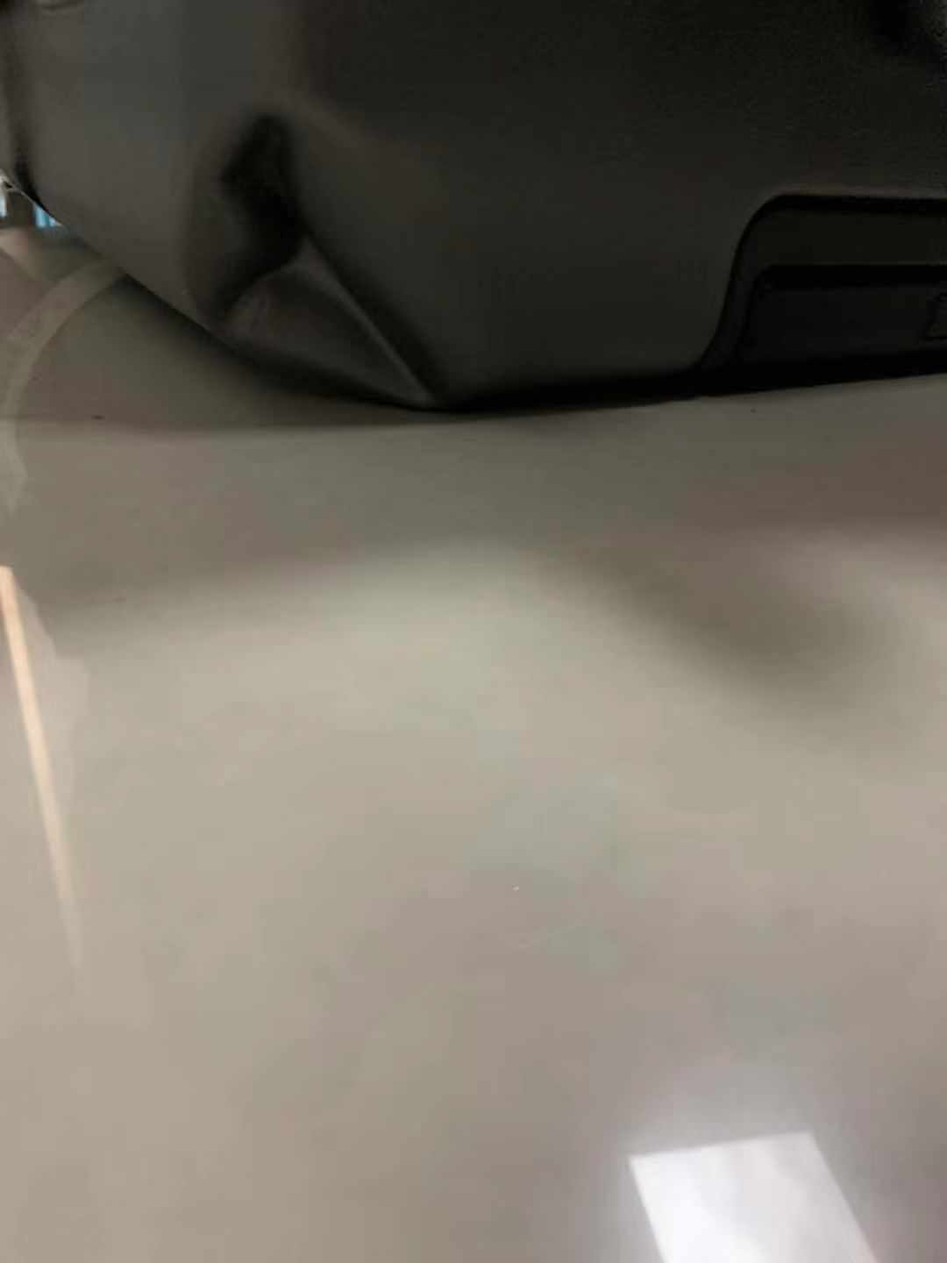rupture: (184, 106, 452, 405)
